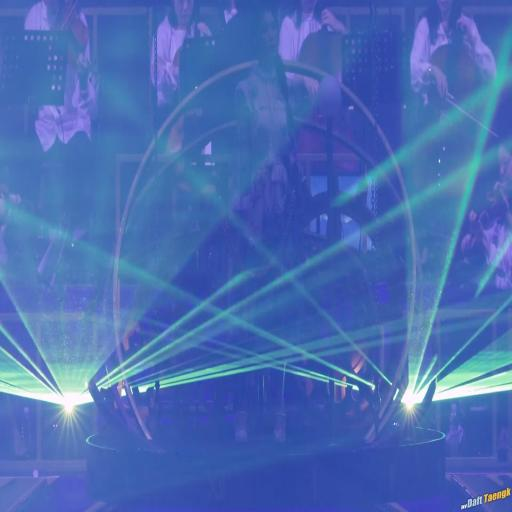IU: (252, 6, 279, 68)
